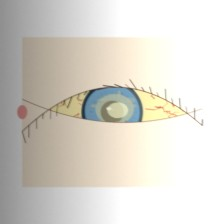corneal_ulcer: (83, 84, 146, 134)
